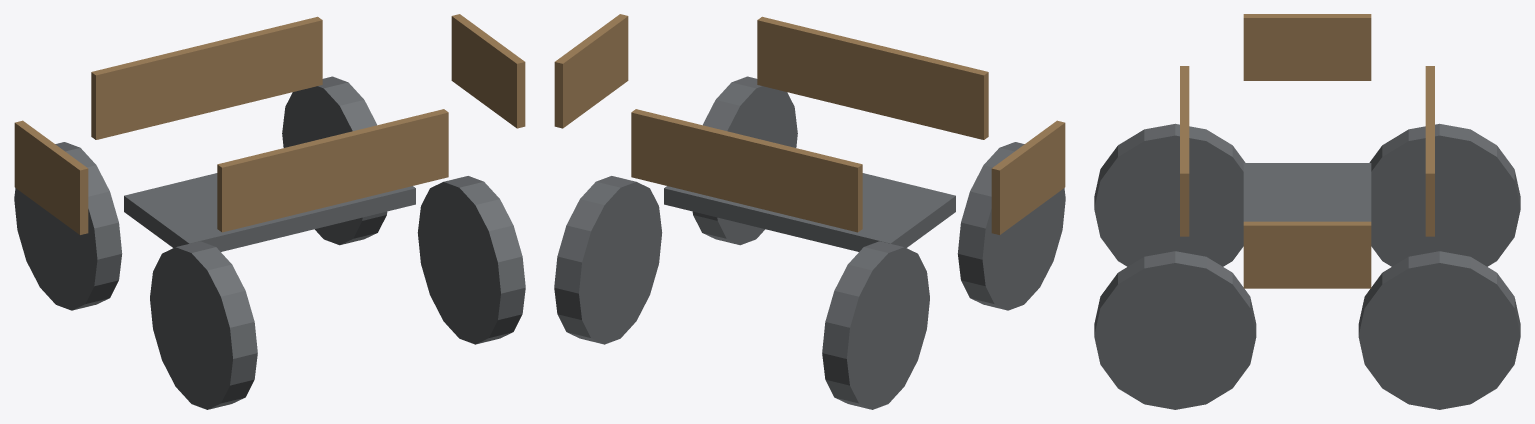
Rendered from Wagon_textured.glb.
3 views of the same model, side by side, from view 1: azimuth 30°, elevation 25°; view 2: azimuth 150°, elevation 25°; view 3: azimuth 270°, elevation 25° (orthographic). The views are drawn at different scales.
Visible parts, largest first — view 1: WagonStandIn; view 2: WagonStandIn; view 3: WagonStandIn.
Boxes of the visible parts, <box> form: WagonStandIn: <box>14,14,525,409</box>; WagonStandIn: <box>554,14,1065,409</box>; WagonStandIn: <box>1094,14,1520,409</box>.
Size of the model in its own units: 2.16 by 1.05 by 1.84.
